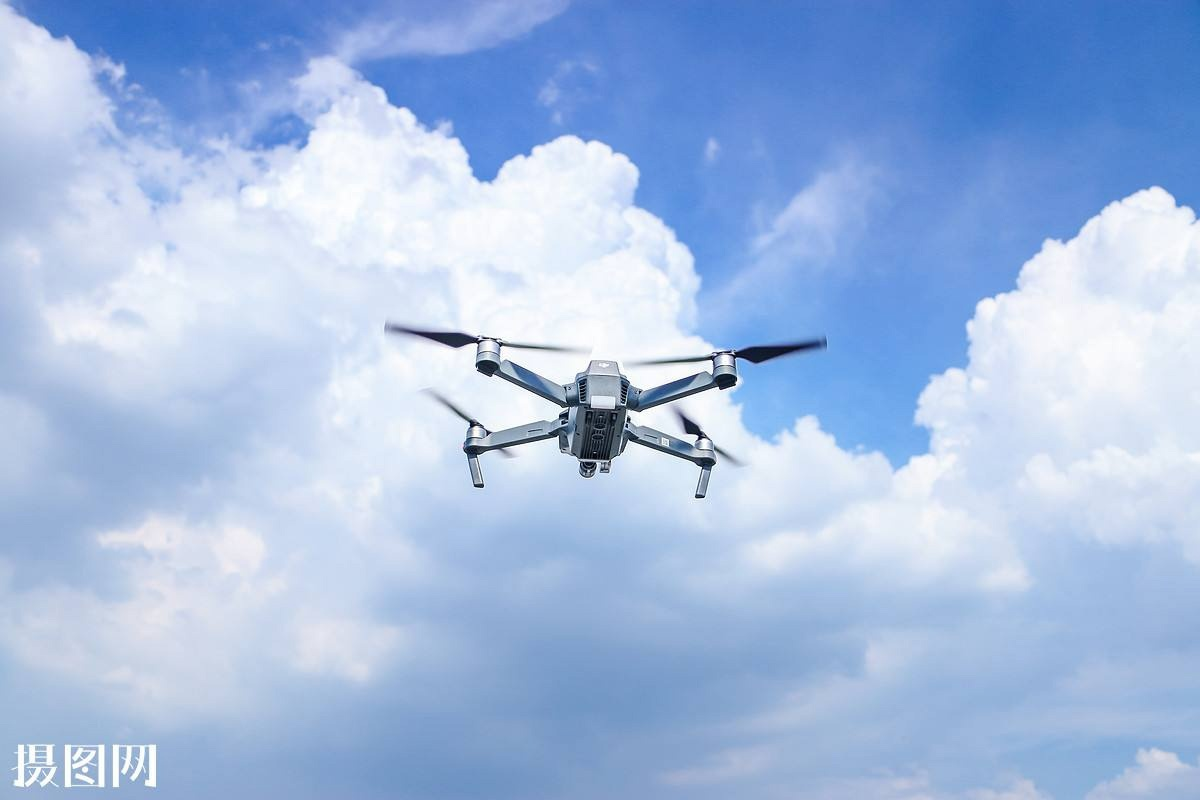DJI: (383, 313, 833, 511)
